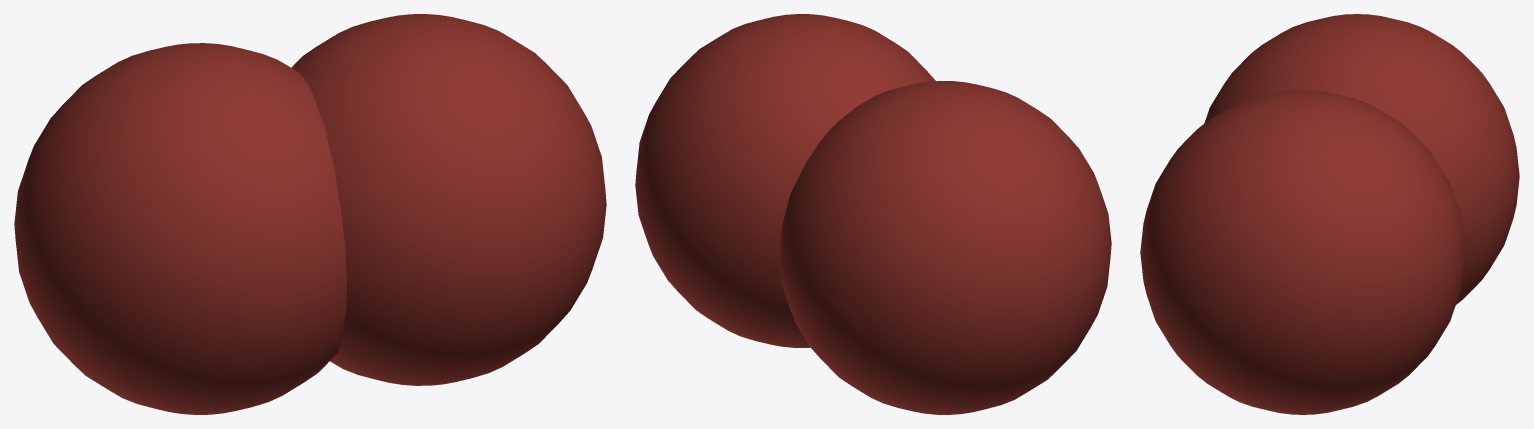
The model's file is diplococci.glb.
3 renders of one model, left to right at view 1: azimuth 30°, elevation 25°; view 2: azimuth 150°, elevation 25°; view 3: azimuth 270°, elevation 25°, orthographic. The views are drawn at different scales.
Visible parts, largest first — view 1: Sphere.001, Sphere.005; view 2: Sphere.001, Sphere.005; view 3: Sphere.005, Sphere.001.
Boxes of the visible parts, box(x1,y1,x2,y2) form: Sphere.001: box(14, 43, 347, 414); Sphere.005: box(291, 14, 606, 385); Sphere.001: box(779, 81, 1111, 414); Sphere.005: box(635, 14, 935, 347); Sphere.005: box(1140, 90, 1465, 414); Sphere.001: box(1204, 14, 1519, 304).
Bounding box in the file's own units: 4.16 × 2.66 × 3.05.
